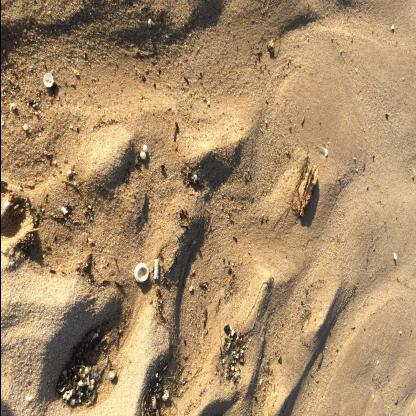plastik: (134, 263, 150, 285), (43, 74, 54, 90)
